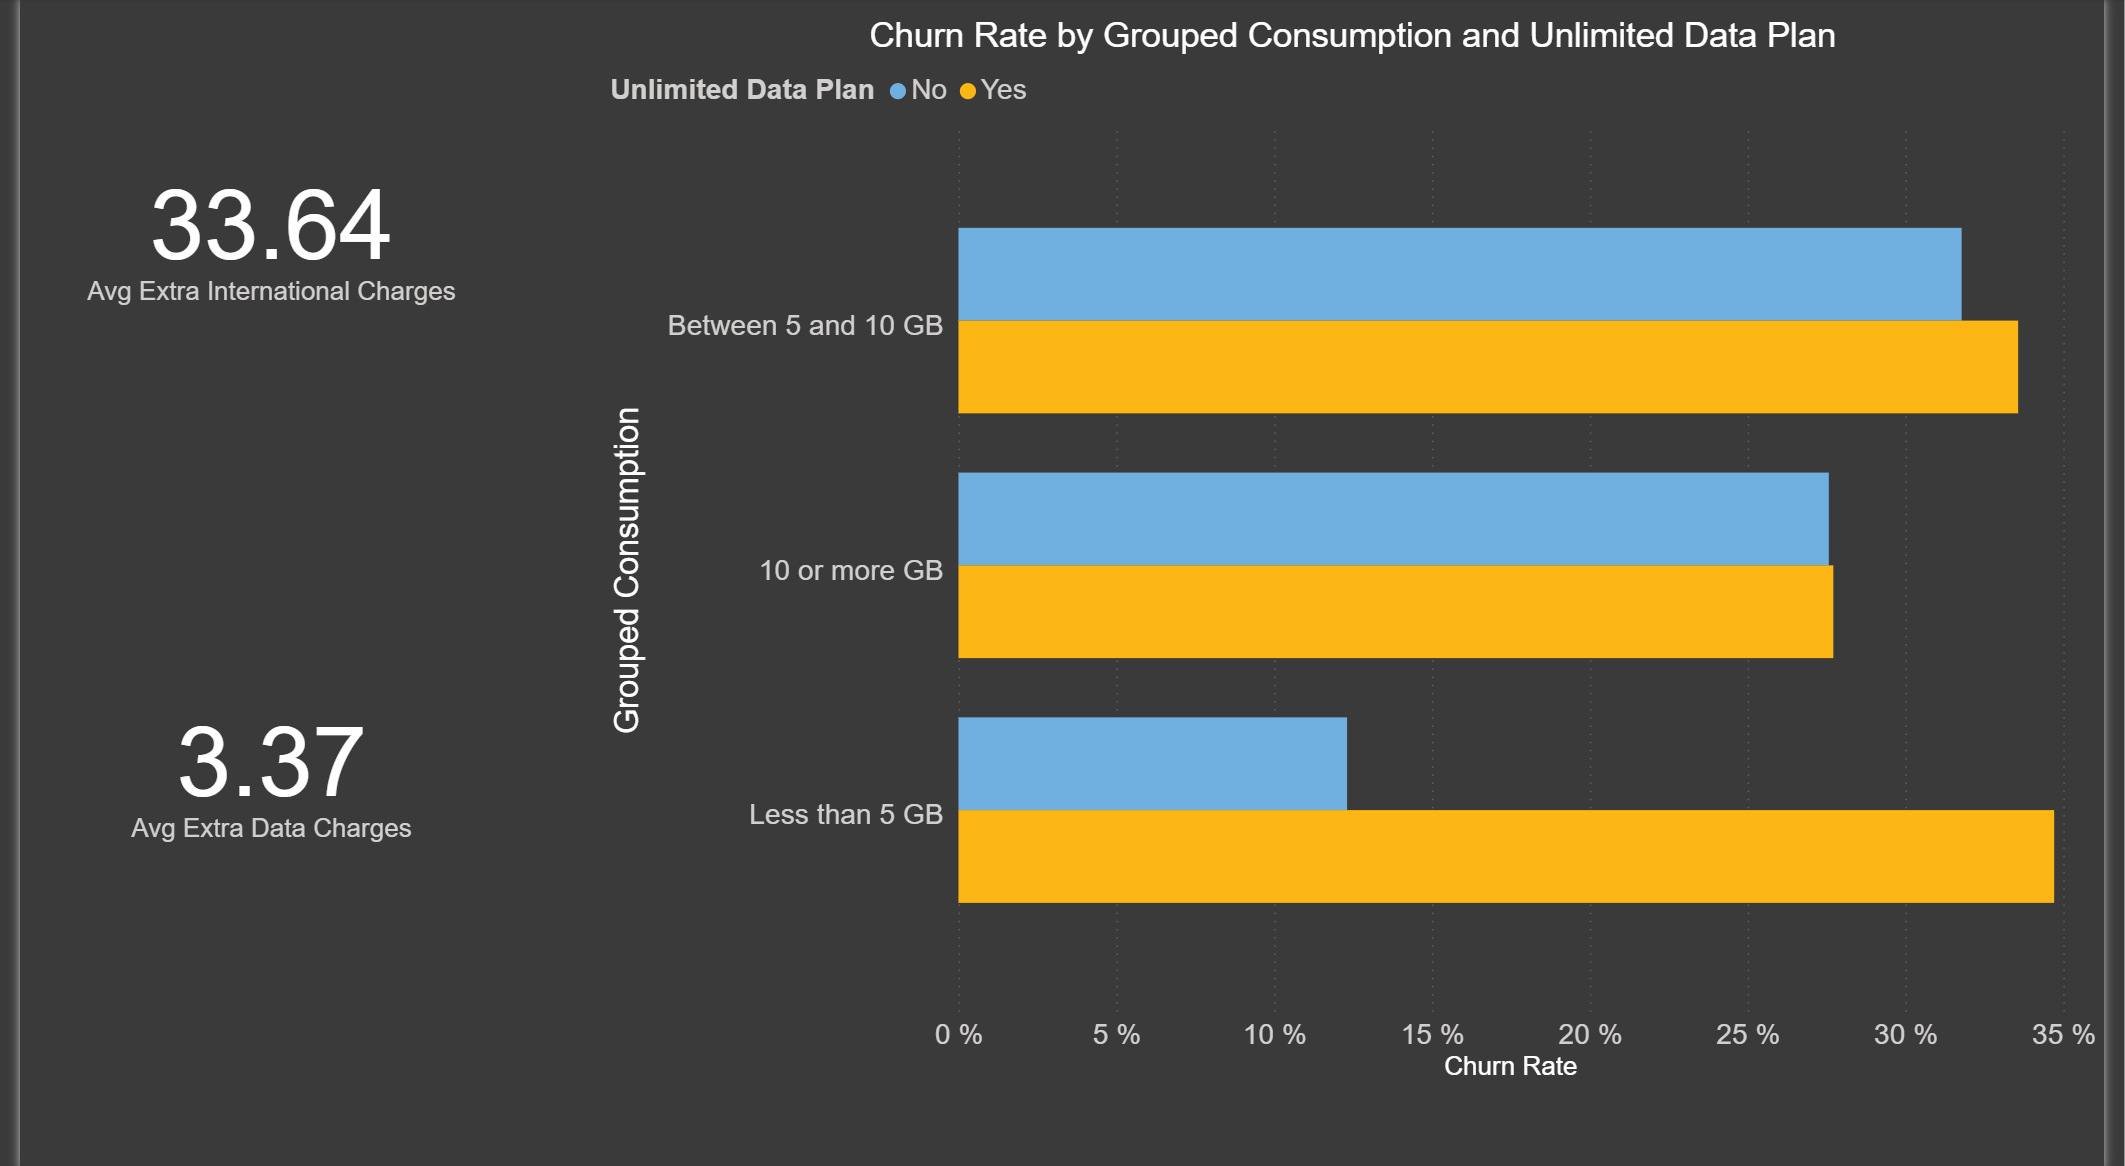

The page's visual inventory and layout, read from the dashboard file:
{"tool":"powerbi","page":{"name":"Extra Charges","canvas":[1280,720],"ordinal":8},"visuals":[{"type":"clusteredBarChart","fields":{"Category":["Databel - Data.Grouped Consumption"],"Y":["Databel - Data.Churn Rate"],"Series":["Databel - Data.Unlimited Data Plan"]},"box":[357.3,10.9,922.7,658.6],"z":0},{"type":"card","fields":{"Values":["Databel - Data.Avg Extra International Charges"]},"box":[0,10.7,309.3,264.9],"z":1000},{"type":"card","fields":{"Values":["Databel - Data.Avg Extra Data Charges"]},"box":[0,276,309,394],"z":2000}]}

Visuals, with their boxes in screenshot pixels (x1, y1, x2, y2), scaled from the page's 1280x720 canvas onto the 2125x1166 screenshot:
clusteredBarChart - Databel - Data.Grouped Consumption x Databel - Data.Churn Rate: (left=593, top=18, right=2124, bottom=1084)
card - Databel - Data.Avg Extra International Charges: (left=0, top=17, right=513, bottom=446)
card - Databel - Data.Avg Extra Data Charges: (left=0, top=447, right=513, bottom=1085)
